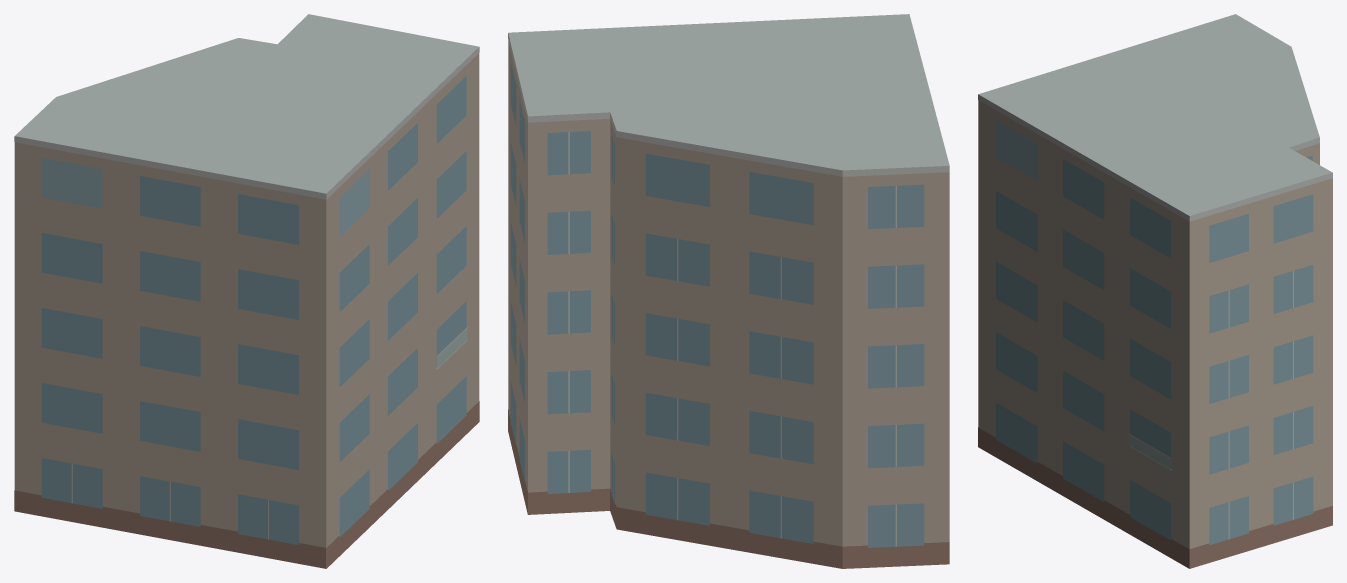
File: survey-upis-32528458.glb
3 renders of one model, left to right at view 1: azimuth 30°, elevation 25°; view 2: azimuth 150°, elevation 25°; view 3: azimuth 270°, elevation 25°, orthographic. The views are drawn at different scales.
Parts seen in each view (by area): view 1: survey-upis-32528458.tmp; view 2: survey-upis-32528458.tmp; view 3: survey-upis-32528458.tmp.
Part boxes in pixels (box(x1,y1,x2,y2)): survey-upis-32528458.tmp: box(14, 14, 479, 568); survey-upis-32528458.tmp: box(508, 14, 949, 568); survey-upis-32528458.tmp: box(978, 14, 1332, 568).
Size of the model in its own units: 18.74 by 15.25 by 13.9.
